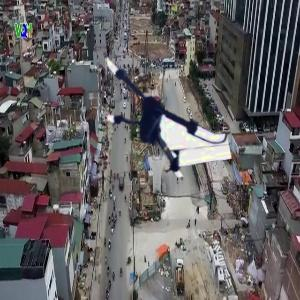drone: (86, 45, 224, 183)
